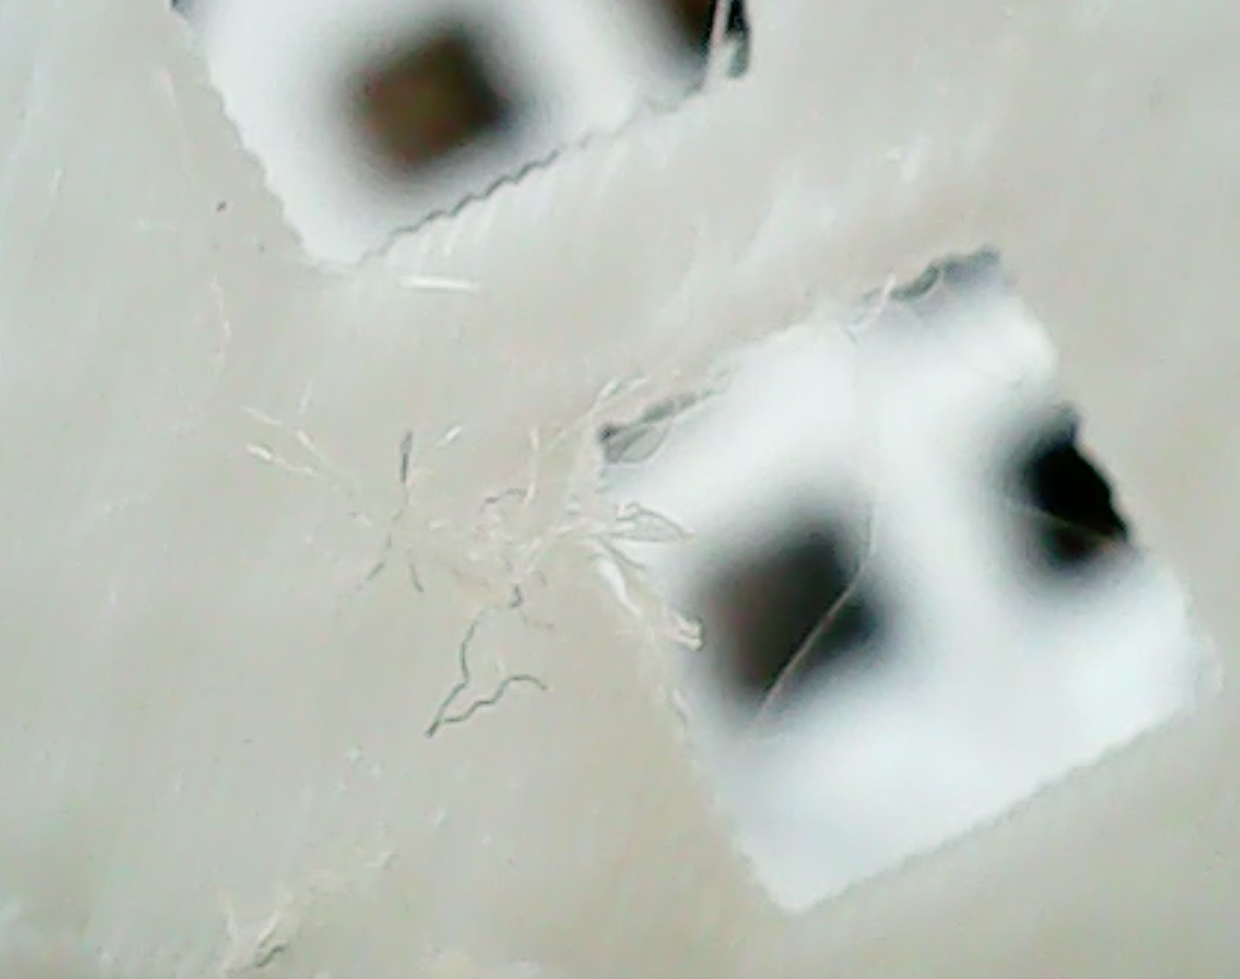3dpstringing: (236, 391, 722, 752), (770, 242, 1047, 372), (331, 233, 501, 315), (669, 15, 780, 113), (205, 900, 331, 969)
